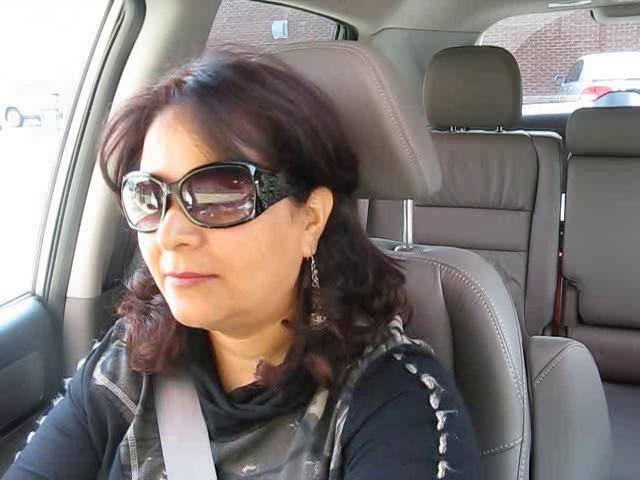no_yawn: (143, 255, 231, 301)
